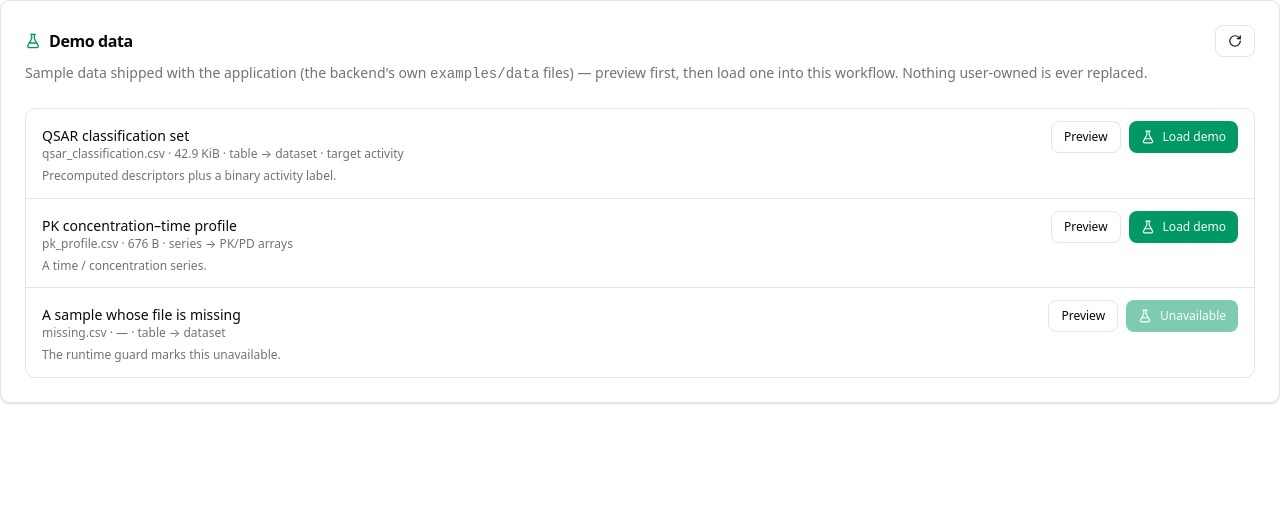
DemoDataSection (part16 Phase 5) › previews the raw head before any load, and never registers
The width and height of the screenshot is (1280, 526).
Step 1. Click the button "Preview" in the row of "· target activity" → (1086, 137), box [1051,121,1121,153]
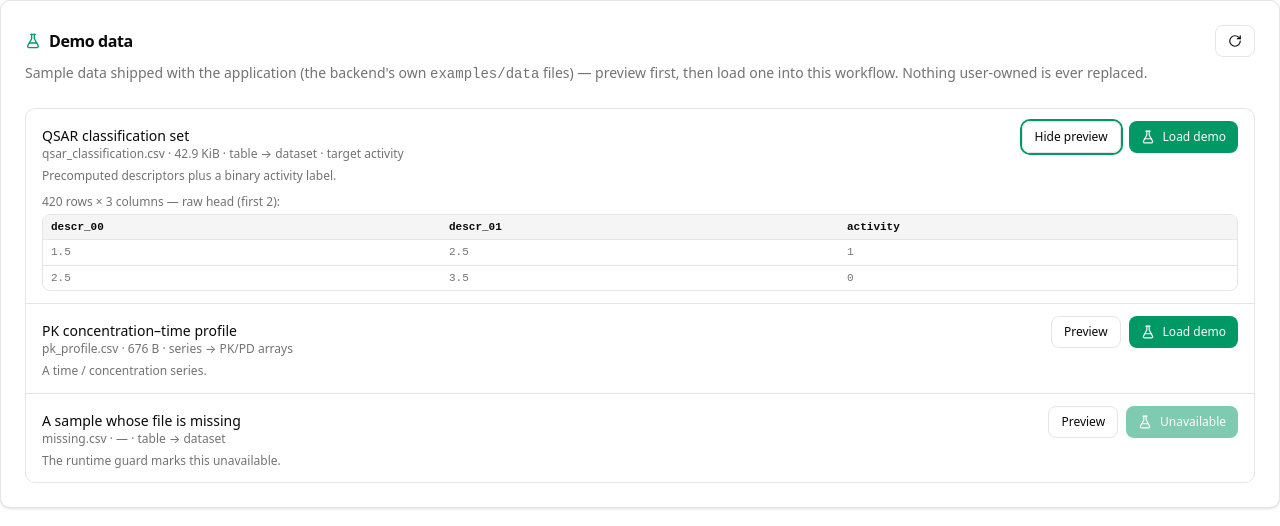
Check: the text "420 rows × 3 columns — raw head (first 2):" is shown, box [42,192,280,210]
Check: the column heading "descr_00" is shown, box [43,214,441,240]
